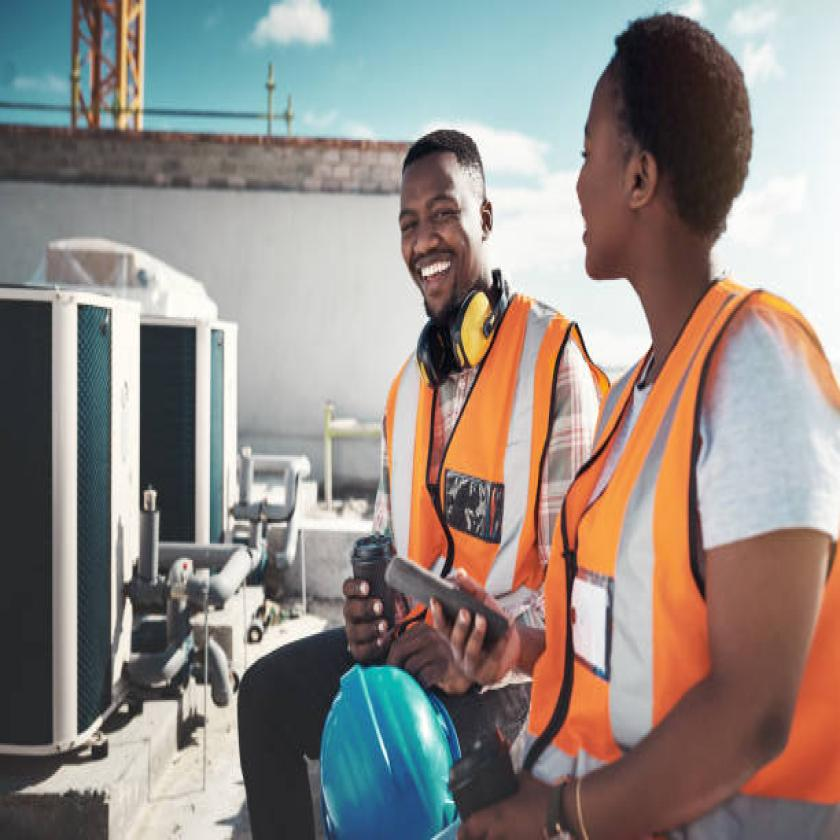Sin_casco: (572, 10, 759, 322), (386, 110, 514, 366)
